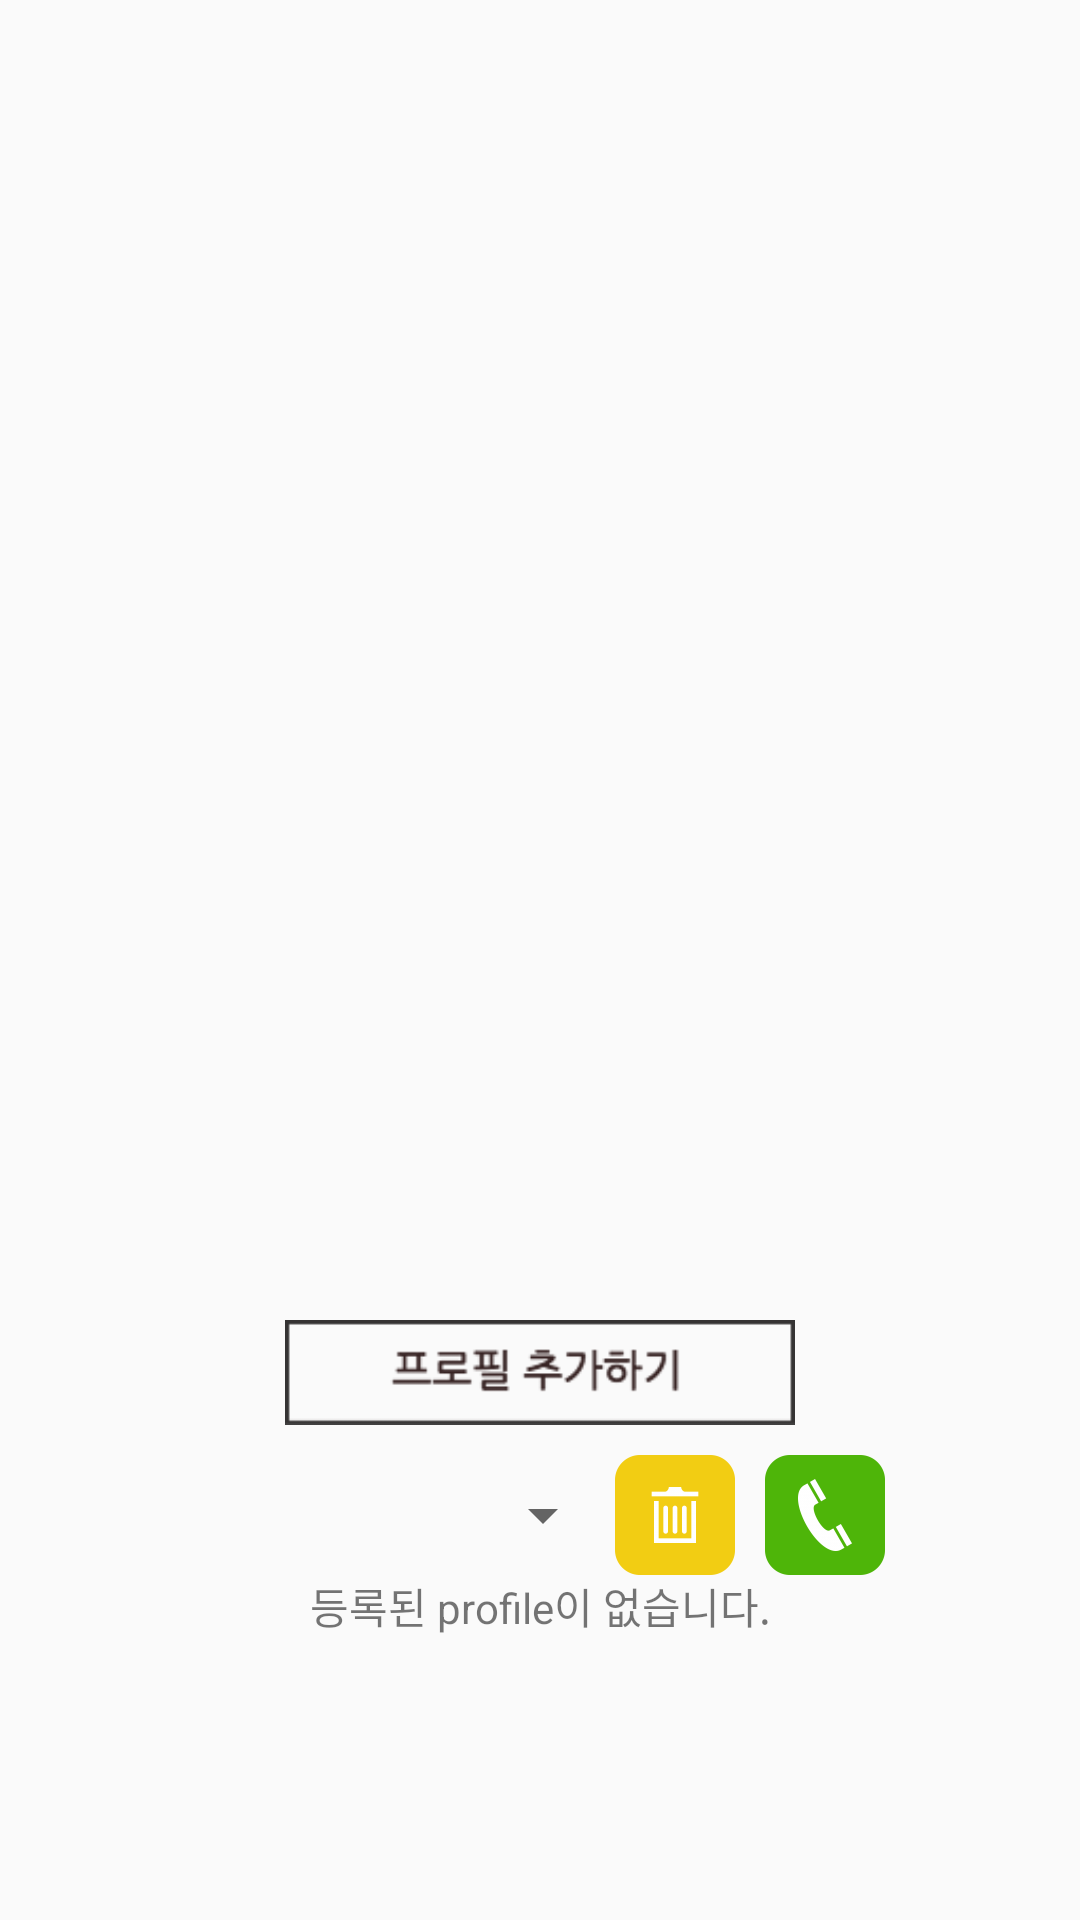

Icon bounding boxes for this 1080 × 1920 phone screenshot, format (x1, y1, x2, y2):
callbutton: (765, 1455, 885, 1575)
profile bin: (615, 1455, 735, 1575)
